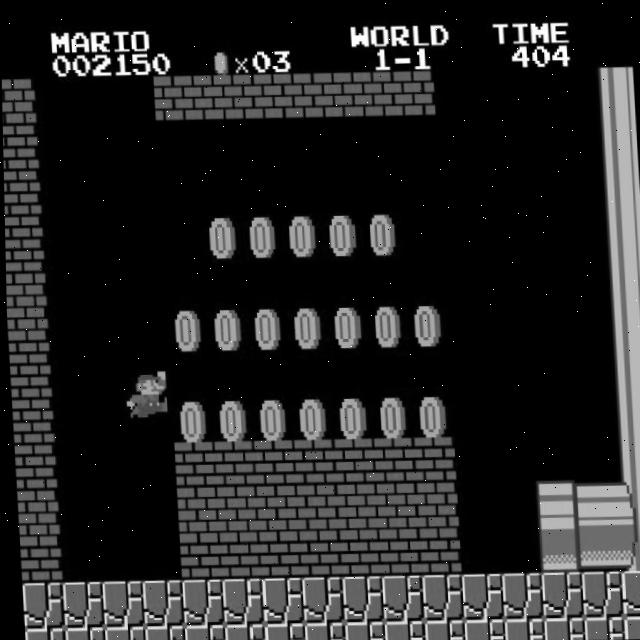1- brick_block: (173, 486, 217, 534), (176, 531, 220, 579), (213, 485, 257, 533), (253, 484, 297, 532), (272, 72, 316, 120), (293, 483, 337, 531), (333, 482, 377, 530), (152, 75, 196, 122), (192, 74, 236, 121), (216, 531, 260, 578), (232, 73, 276, 120), (256, 530, 300, 577), (373, 482, 417, 529), (413, 481, 457, 528), (7, 352, 50, 400), (9, 398, 52, 446), (16, 535, 59, 583), (312, 71, 355, 119), (352, 70, 395, 118), (376, 527, 419, 575), (392, 69, 435, 117), (416, 526, 459, 574), (171, 441, 215, 487), (211, 440, 255, 486), (251, 439, 295, 485), (291, 438, 335, 484), (331, 437, 375, 483), (12, 444, 55, 491), (14, 490, 57, 537), (296, 529, 339, 576), (336, 528, 379, 575), (371, 436, 414, 483), (411, 435, 454, 482), (5, 307, 47, 353), (4, 215, 43, 262), (5, 261, 44, 308), (3, 170, 40, 216), (2, 124, 38, 170), (1, 78, 35, 125)
11- little_mario: (120, 367, 166, 417)
14- pipe: (573, 477, 617, 525), (591, 64, 635, 111), (593, 110, 637, 156), (576, 523, 619, 570), (596, 156, 639, 202), (598, 201, 640, 248), (600, 247, 640, 294), (603, 293, 640, 339), (605, 338, 640, 385), (608, 384, 640, 431), (609, 430, 640, 476), (612, 476, 640, 522), (615, 521, 640, 568)
15- pipe_head: (533, 478, 577, 525), (536, 523, 579, 571)
17- undestructible_block: (138, 578, 182, 626), (178, 577, 222, 625), (418, 572, 462, 620), (458, 571, 502, 619), (498, 570, 542, 618), (538, 569, 582, 617), (58, 581, 102, 628), (98, 580, 142, 627), (218, 577, 262, 624), (258, 576, 302, 623), (298, 575, 342, 622), (338, 574, 382, 621), (378, 573, 422, 620), (578, 569, 622, 616), (19, 581, 61, 629), (617, 567, 640, 614), (500, 616, 543, 640), (540, 615, 583, 639), (580, 614, 623, 638), (460, 617, 503, 640), (380, 618, 423, 640), (420, 618, 463, 640), (341, 619, 383, 640), (301, 620, 343, 640), (261, 621, 303, 640), (221, 622, 263, 640), (181, 623, 223, 640), (141, 624, 183, 640), (101, 625, 143, 640), (61, 626, 103, 640), (21, 627, 62, 640), (620, 613, 640, 636)
2- coin: (164, 303, 208, 351), (204, 302, 248, 350), (244, 301, 288, 349), (284, 300, 328, 348), (368, 390, 412, 438), (408, 389, 452, 437), (169, 395, 213, 442), (199, 211, 243, 258), (209, 394, 253, 441), (239, 210, 283, 257), (248, 393, 292, 440), (288, 392, 332, 439), (328, 391, 372, 438), (279, 210, 323, 256), (319, 209, 363, 255), (359, 208, 403, 254), (324, 300, 367, 347), (364, 299, 407, 346), (404, 298, 447, 345)
